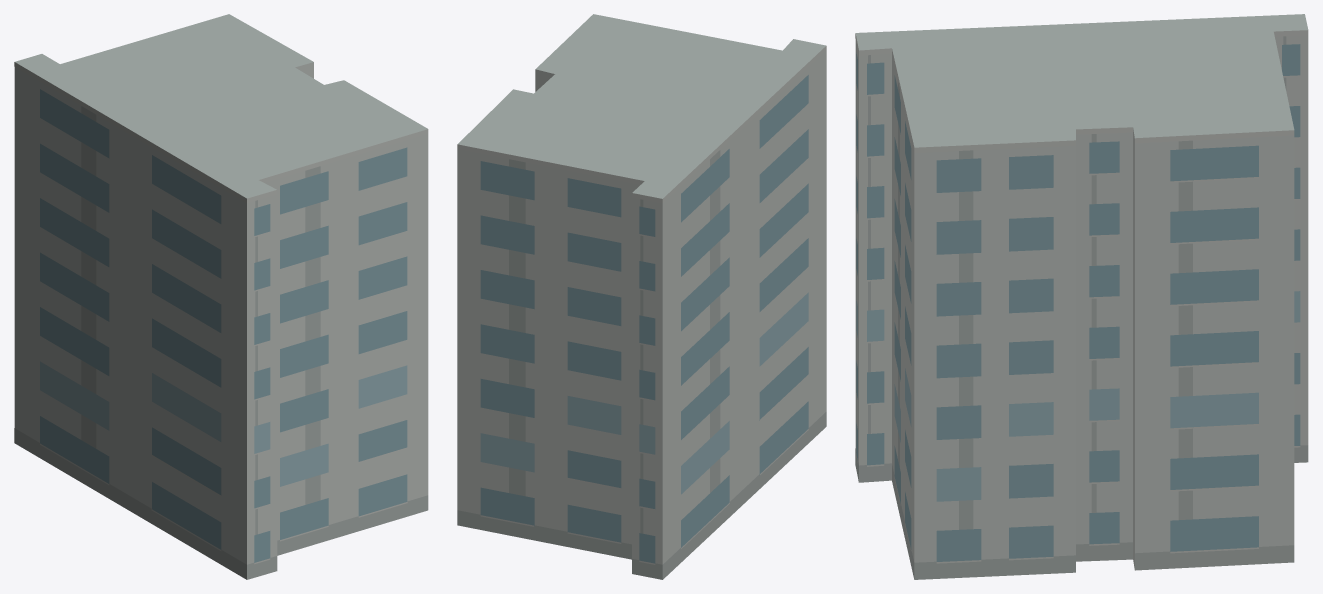
Rendered from survey-upis-32630575.glb.
3 views of the same model, side by side, from view 1: azimuth 30°, elevation 25°; view 2: azimuth 150°, elevation 25°; view 3: azimuth 270°, elevation 25° (orthographic). The views are drawn at different scales.
Visible parts, largest first — view 1: survey-upis-32630575.tmp; view 2: survey-upis-32630575.tmp; view 3: survey-upis-32630575.tmp.
Part boxes in pixels (<box>): survey-upis-32630575.tmp: <box>14,14,428,579</box>; survey-upis-32630575.tmp: <box>457,14,826,579</box>; survey-upis-32630575.tmp: <box>855,14,1308,579</box>.
Bounding box in the file's own units: 13.14 × 19.8 × 18.81.
